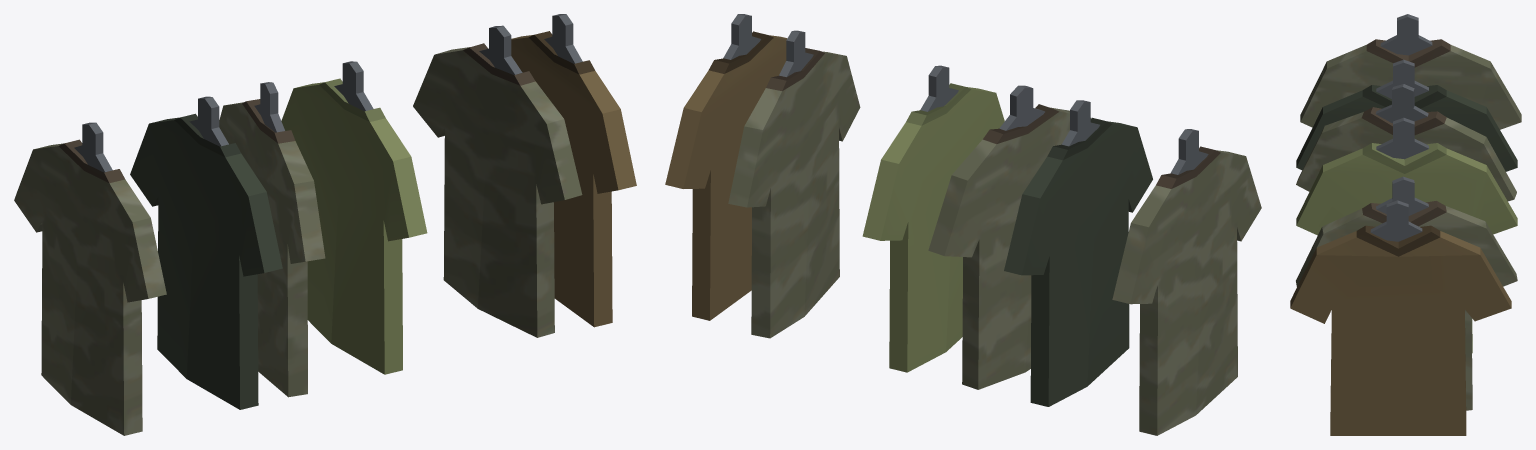
The model's file is SM_Prop_Clothes_Hunting_Shirt_Set_01.obj.
The picture shows the model from 3 angles, left to right: view 1: azimuth 30°, elevation 25°; view 2: azimuth 150°, elevation 25°; view 3: azimuth 270°, elevation 25°; orthographic projection. The views are drawn at different scales.
Visible parts, largest first — view 1: SM_Prop_Clothes_Hunting_Shirt_Set_01_0; view 2: SM_Prop_Clothes_Hunting_Shirt_Set_01_0; view 3: SM_Prop_Clothes_Hunting_Shirt_Set_01_0.
Part boxes in pixels (x1,y1,x2,y2): SM_Prop_Clothes_Hunting_Shirt_Set_01_0: (14, 14, 636, 435); SM_Prop_Clothes_Hunting_Shirt_Set_01_0: (665, 14, 1261, 435); SM_Prop_Clothes_Hunting_Shirt_Set_01_0: (1290, 14, 1521, 435).
Bounding box in the file's own units: 1.72 × 0.9532 × 0.8584.
Materials: 1 (1 with a texture image).
